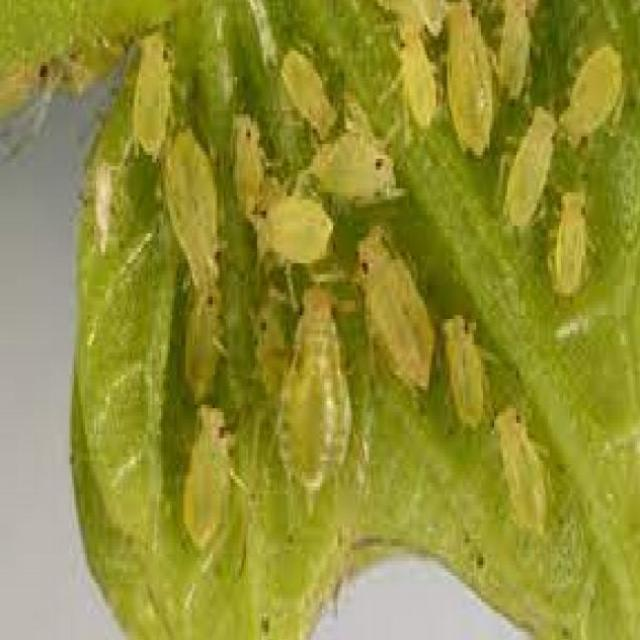Aphids: (122, 0, 633, 593)
